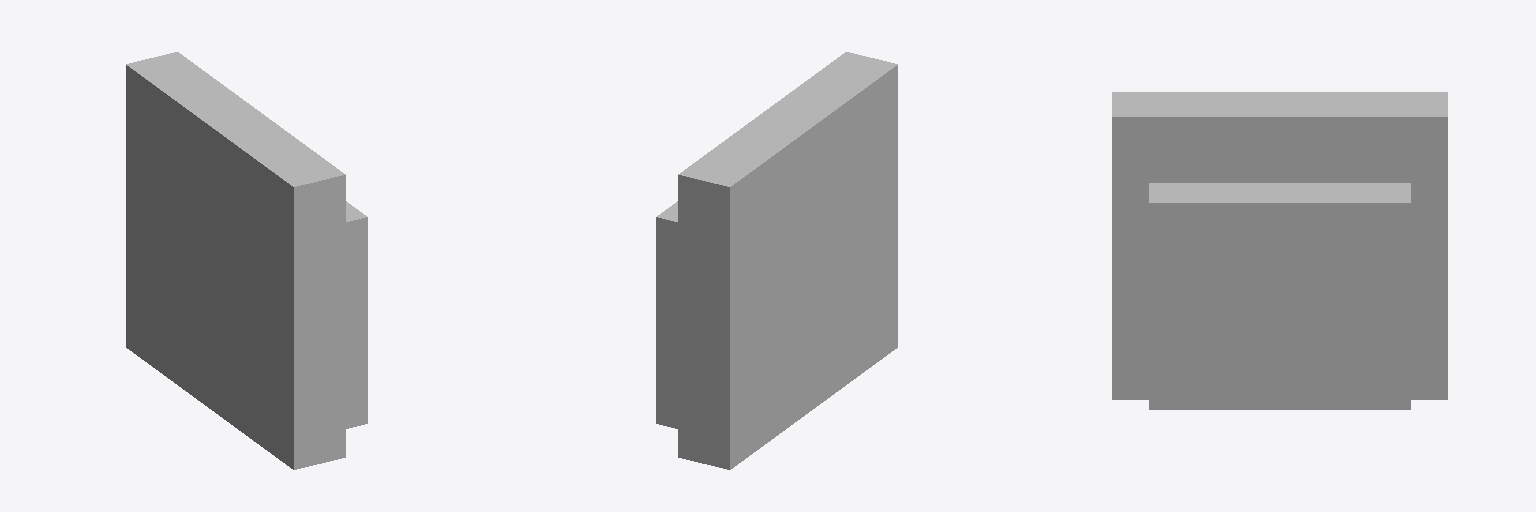
File: EmergencyExit.obj
3 renders of one model, left to right at view 1: azimuth 30°, elevation 25°; view 2: azimuth 150°, elevation 25°; view 3: azimuth 270°, elevation 25°, orthographic.
Parts seen in each view (by area): view 1: Box019; view 2: Box019; view 3: Box019.
Boxes of the visible parts, x1,y1,x2,y2 form: Box019: [126, 52, 367, 469]; Box019: [656, 52, 897, 469]; Box019: [1112, 92, 1447, 409].
Size of the model in its own units: 12.92 by 37.76 by 40.66.